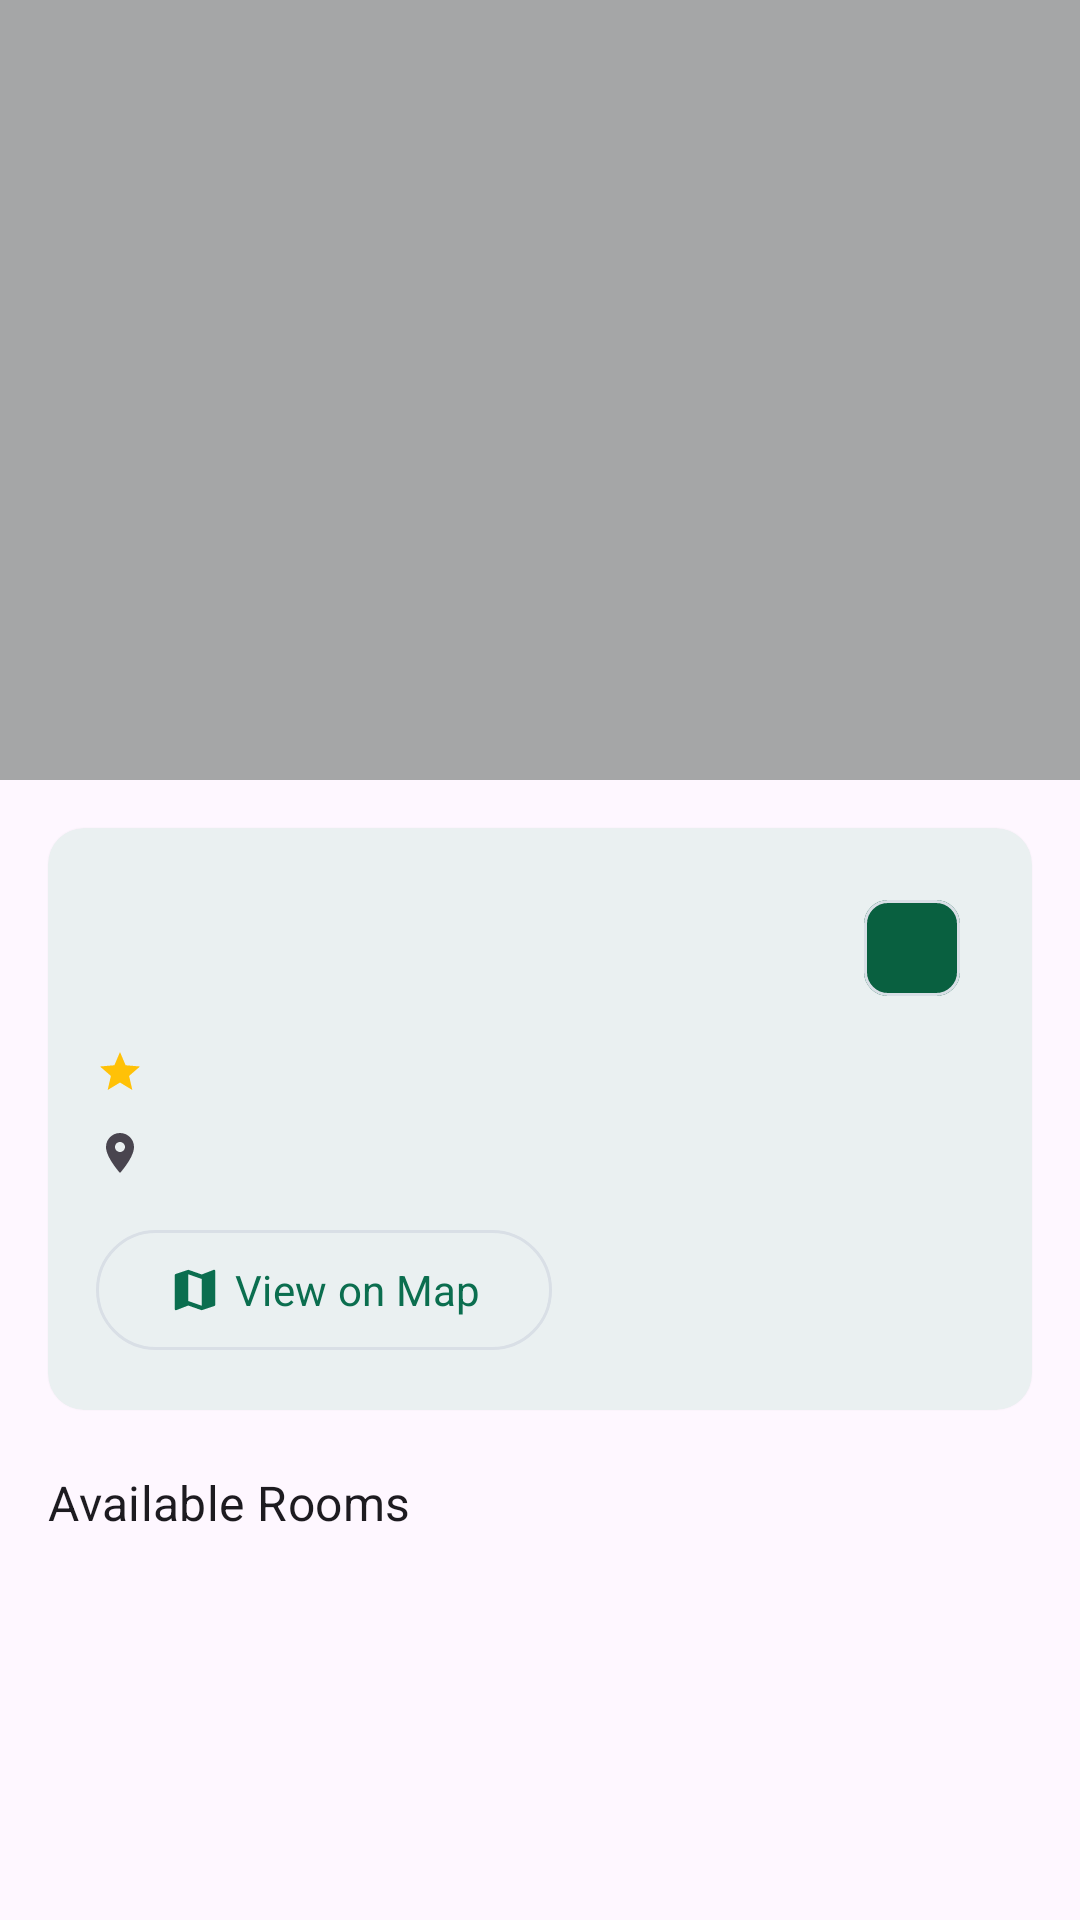

Where to tap for icons on this 1080*1920 app screen, as (x=x, y=y):
location: (x=120, y=1153)
star: (x=120, y=1071)
